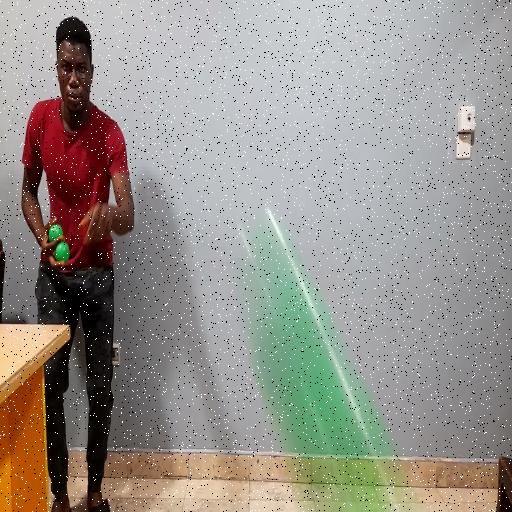plastic-ball: (235, 210, 414, 512)
